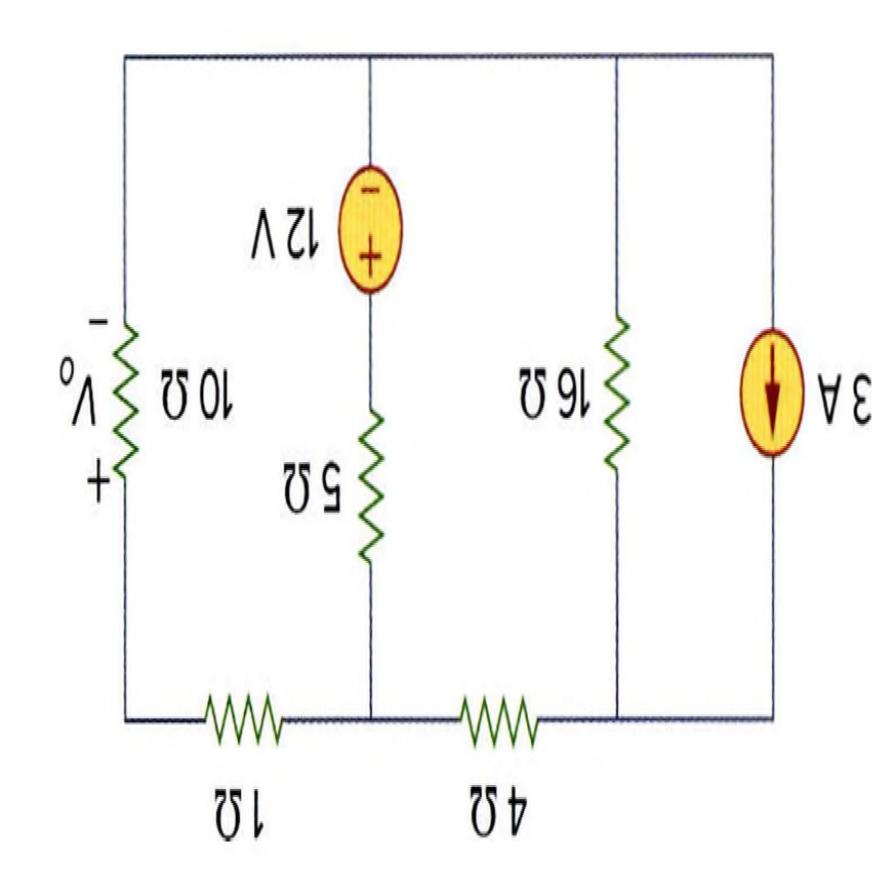I3: (738, 322, 807, 459)
V3: (331, 150, 408, 304)
